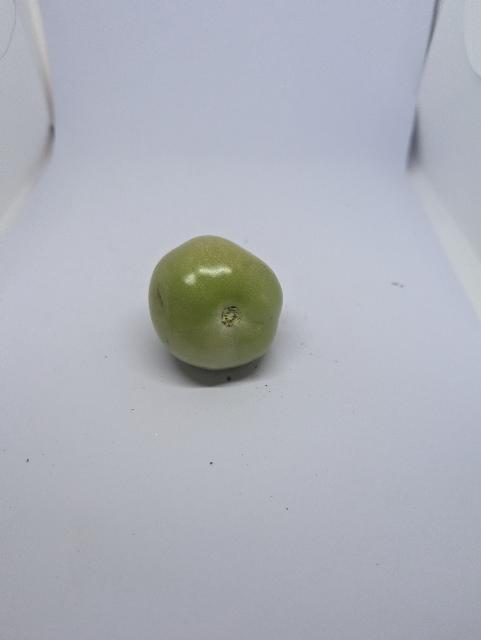green: (144, 232, 285, 373)
